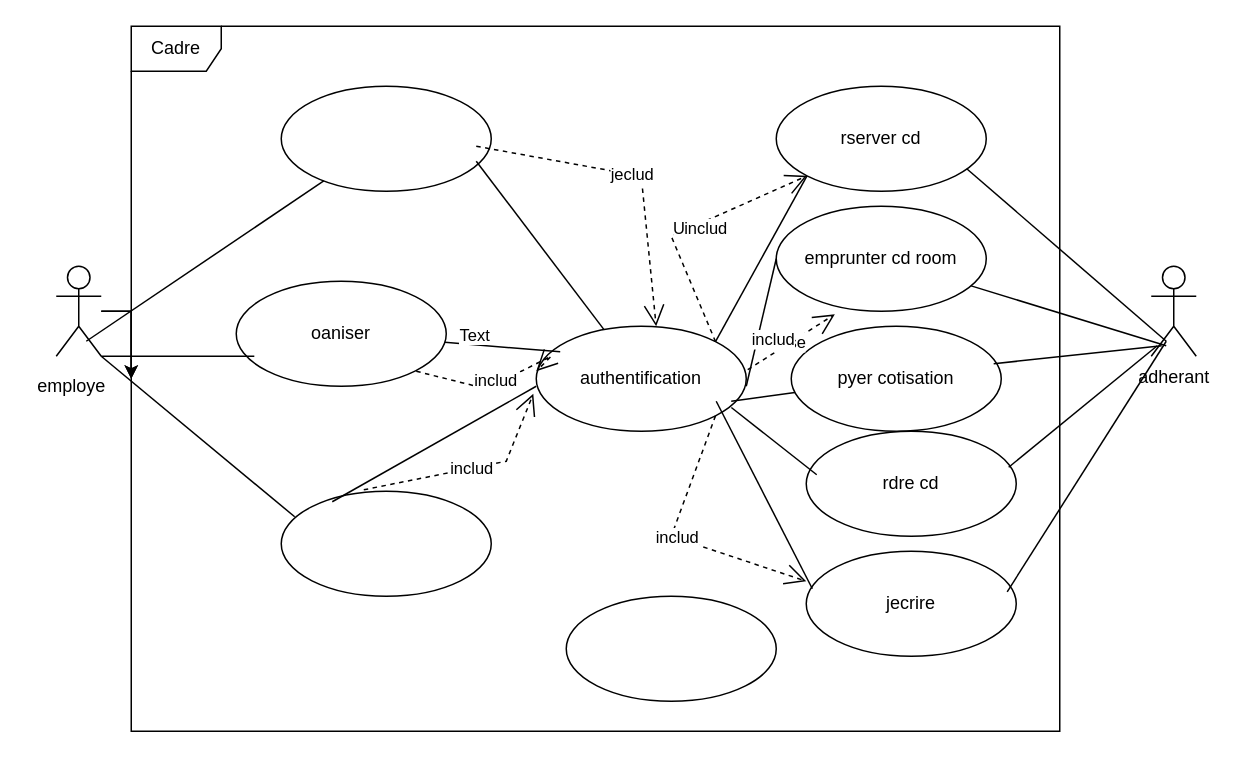
The diagram is 1235 pixels wide and 758 high, and some of its shapes have lost their labels. The shapes that lost their labels are listed below. From the top down, each one's centre as x and y in pixels, then its label:
At point (385, 138): "enregistrer emprunt".
At point (78, 310): "Actor".
At point (385, 543): "uneertir l'adherant".
At point (670, 648): "vifier place disponible".
